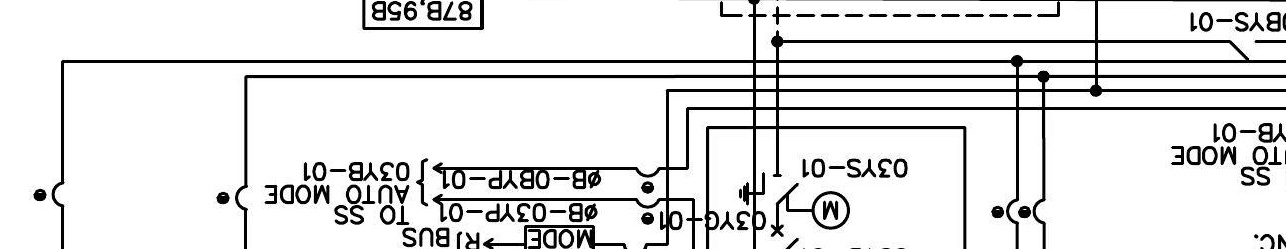115_3ways_ds_w_motor: (738, 172, 851, 231)
115_ds: (1229, 39, 1259, 60)
